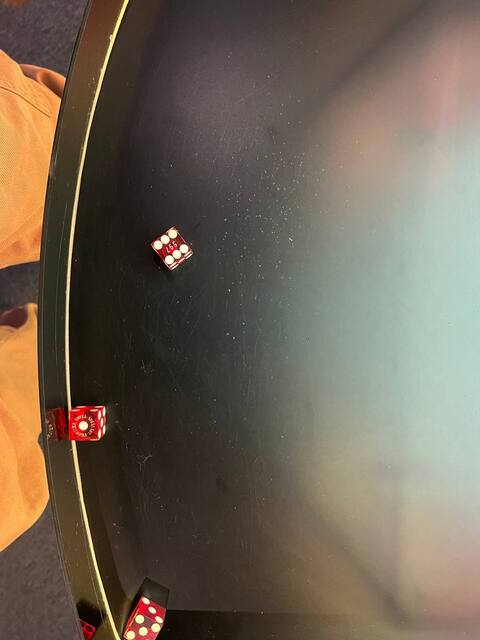one: (65, 408, 102, 442)
six: (150, 226, 192, 268)
